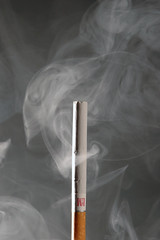cigarette: (68, 97, 91, 240)
